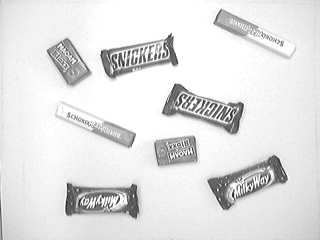Maoam: (45, 35, 95, 92), (152, 133, 201, 168)
Milkyway: (203, 152, 291, 213), (62, 179, 145, 221)
Riegel: (211, 5, 299, 63), (53, 99, 140, 151)
Snickers: (159, 81, 248, 138), (98, 31, 184, 82)
